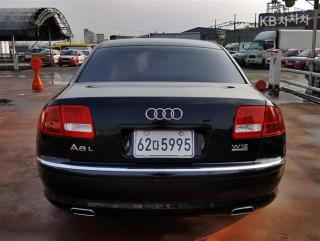2: (145, 136, 153, 153)
5: (160, 136, 168, 152), (184, 136, 191, 152)
6: (136, 137, 145, 152)
9: (168, 137, 176, 152), (176, 138, 184, 152)
다: (153, 139, 161, 152)
